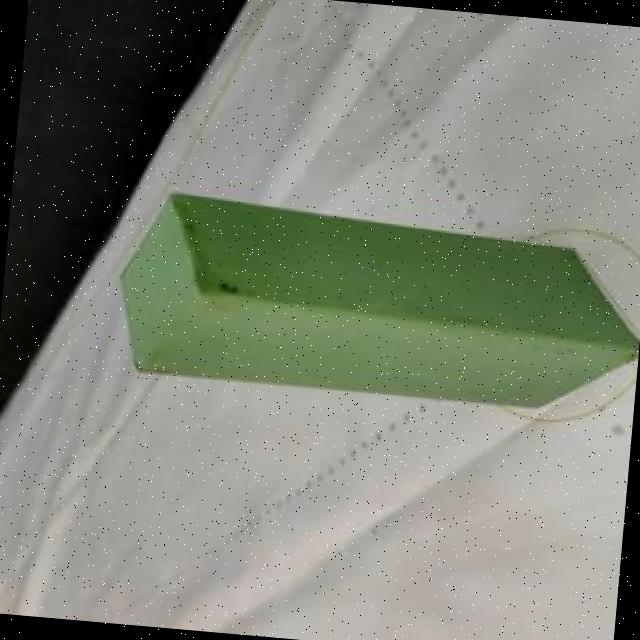greenbox: (103, 186, 640, 420)
